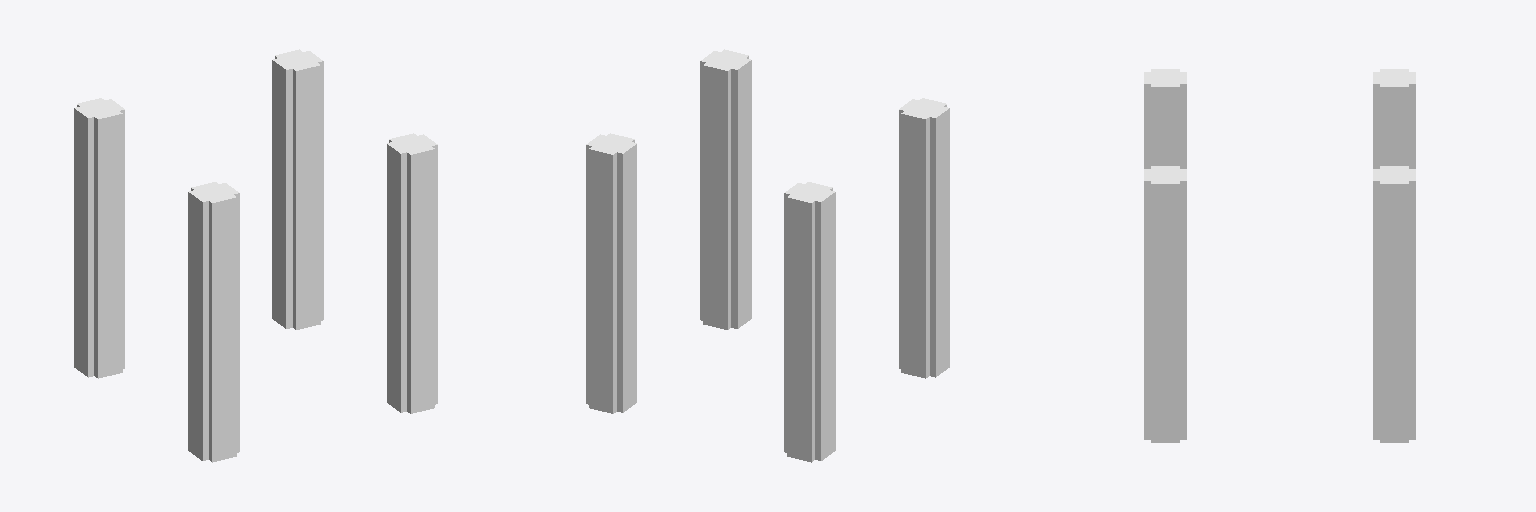
Rendered from Pillars.obj.
3 views of the same model, side by side, from view 1: azimuth 30°, elevation 25°; view 2: azimuth 150°, elevation 25°; view 3: azimuth 270°, elevation 25° (orthographic).
Parts seen in each view (by area): view 1: object 1; view 2: object 1; view 3: object 1.
Part boxes in pixels (left/top/right/bottom): object 1: left=74, top=49, right=437, bottom=462; object 1: left=586, top=49, right=949, bottom=462; object 1: left=1144, top=69, right=1415, bottom=442.
Bounding box in the file's own units: 3.8 × 4 × 3.8.